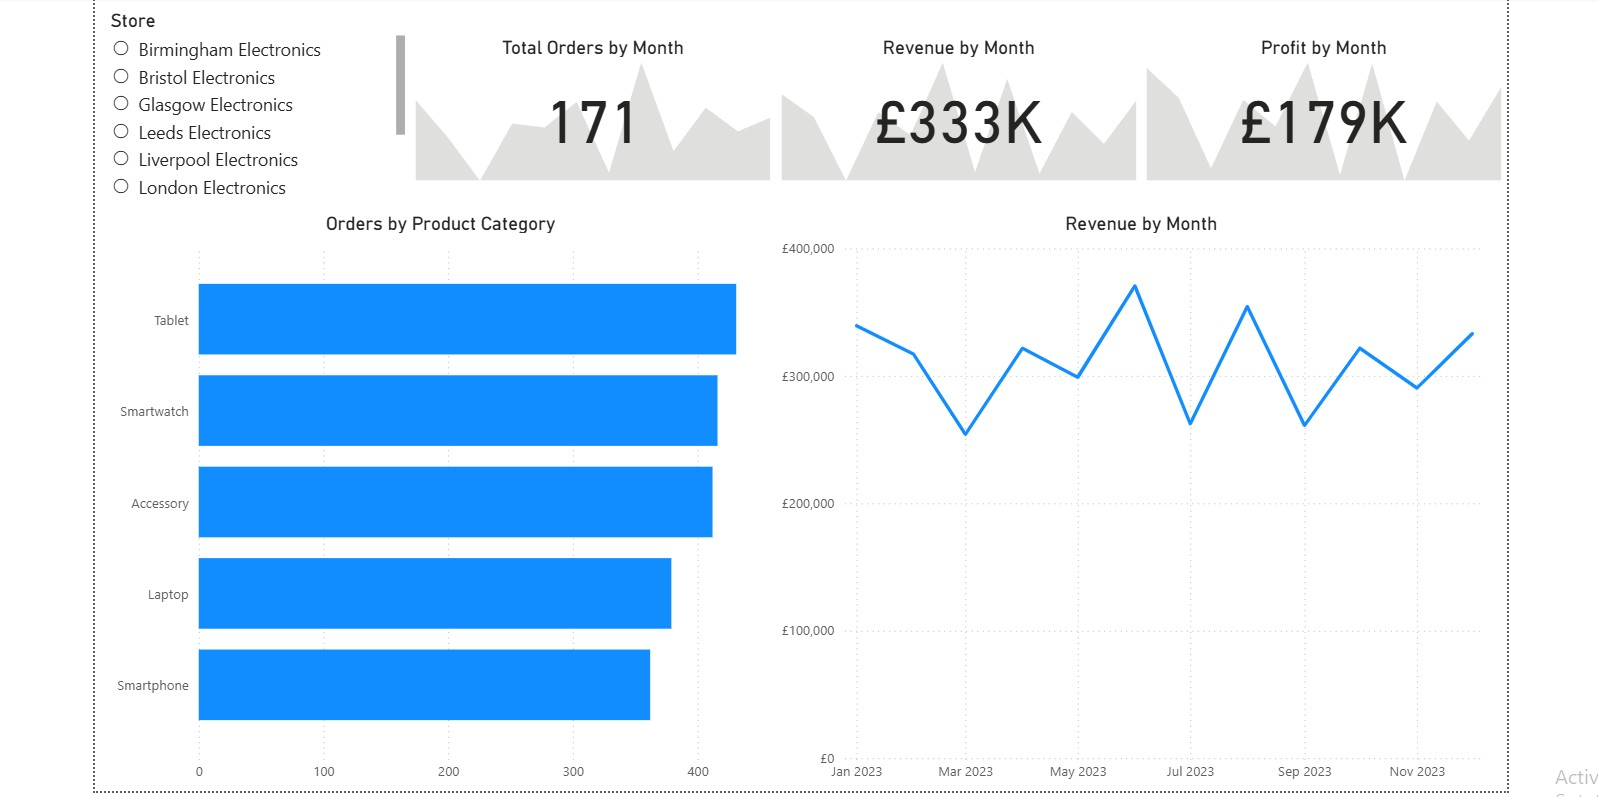

The page's visual inventory and layout, read from the dashboard file:
{"tool":"powerbi","page":{"name":"Page 1","canvas":[1280,720],"ordinal":0},"visuals":[{"type":"kpi","title":"Total Orders by Month","fields":{"Indicator":["sales.Total Orders"],"TrendLine":["calendar.Start of Month"]},"box":[286,35,331.7,136.2],"z":0},{"type":"kpi","title":"Revenue by Month","fields":{"Indicator":["sales.Total revenue"],"TrendLine":["calendar.Start of Month"]},"box":[617.1,35,331.7,136.2],"z":1000},{"type":"kpi","title":"Profit by Month","fields":{"Indicator":["sales.Total Profit (M)"],"TrendLine":["calendar.Start of Month Hierarchy.Start of Month"]},"box":[948.3,35,331.7,136.2],"z":2000},{"type":"listSlicer","title":"Store","fields":{"Values":["stores.Store_Name"]},"box":[8.8,10.7,277.2,183.8],"z":3000},{"type":"clusteredBarChart","title":"Orders by Product Category","fields":{"Category":["products.Product_Category"],"Y":["sales.Total Orders"]},"box":[8.8,194.5,608.9,525.2],"z":4000},{"type":"lineChart","title":"Revenue by Month","fields":{"Y":["sales.Total revenue"],"Category":["calendar.Start of Month Hierarchy.Start of Month"]},"box":[617.6,194.5,662.4,525.2],"z":5000}]}

Visuals, with their boxes on the page's 1280x720 design canvas (x1, y1, x2, y2). These are canvas units, not pixel positions in the 1598x797 screenshot, which may show the page scaled, cropped or inside an application window:
"Total Orders by Month" kpi: locate(286, 35, 618, 171)
"Revenue by Month" kpi: locate(617, 35, 949, 171)
"Profit by Month" kpi: locate(948, 35, 1280, 171)
"Store" listSlicer: locate(9, 11, 286, 194)
"Orders by Product Category" clusteredBarChart: locate(9, 194, 618, 720)
"Revenue by Month" lineChart: locate(618, 194, 1280, 720)
